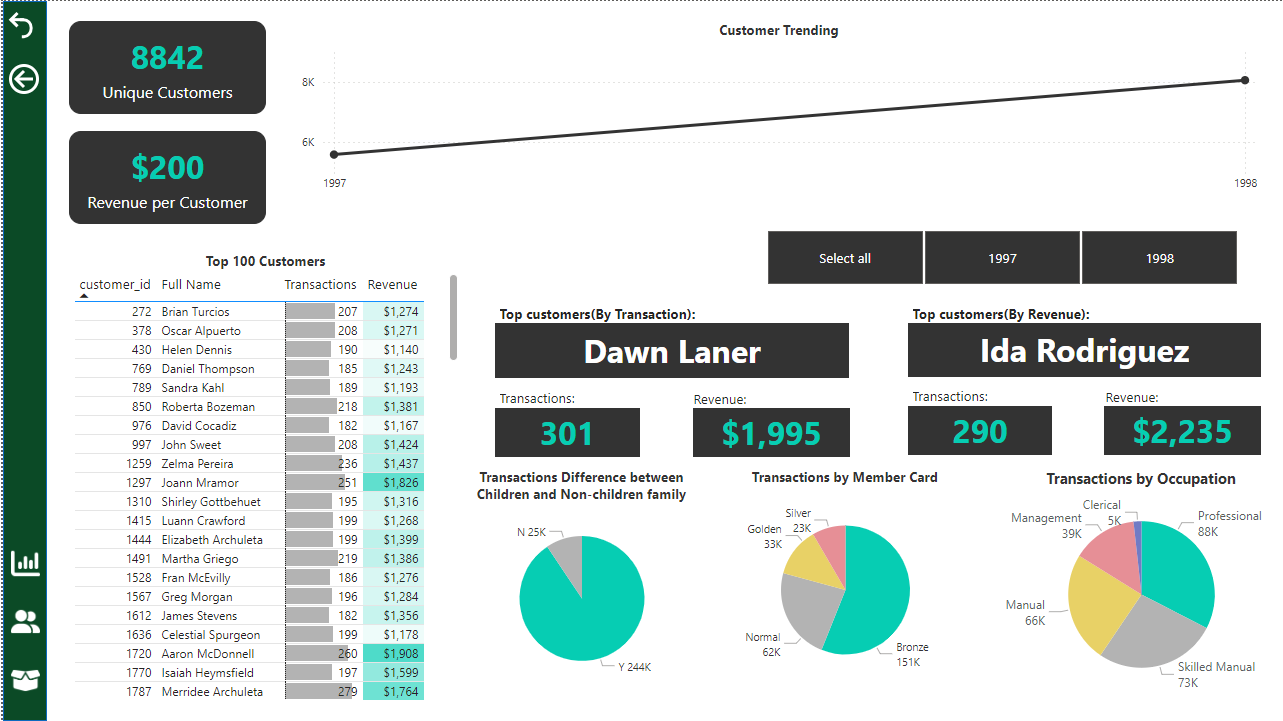

The dashboard page shown, as its layout file describes it:
{"tool":"powerbi","page":{"name":"Customer Performance","canvas":[1280,720],"ordinal":1},"visuals":[{"type":"actionButton","box":[4.1,542.2,36.7,40],"z":0,"group":"g1"},{"type":"tableEx","title":"Top 100 Customers","fields":{"Values":["Customers.customer_id","Customers.full_name","Measure Table.Total Transactions","Measure Table.Total Revenue"]},"box":[65.6,251.1,394.4,453.3],"z":0},{"type":"actionButton","box":[4.1,600.5,36.7,40],"z":1000,"group":"g1"},{"type":"card","fields":{"Values":["Customers.full_name"]},"box":[492.3,322.2,353.6,54.5],"z":1000},{"type":"actionButton","box":[4.1,658.9,36.7,40],"z":2000,"group":"g1"},{"type":"textbox","box":[492.3,298.6,223.6,30.9],"z":2000},{"type":"card","fields":{"Values":["Customers.full_name"]},"box":[905.1,321.7,353.3,54.4],"z":3000},{"type":"textbox","box":[905.1,298.6,223.6,30.9],"z":4000},{"type":"card","fields":{"Values":["Measure Table.Total Transactions"]},"box":[492.3,406.8,144.5,49.1],"z":5000},{"type":"textbox","box":[492.3,383.1,105.5,30],"z":6000},{"type":"card","fields":{"Values":["Measure Table.Total Revenue"]},"box":[688.7,406.8,157.3,49.1],"z":7000},{"type":"textbox","box":[686,384,105.5,30],"z":8000},{"type":"card","fields":{"Values":["Measure Table.Total Transactions"]},"box":[904.6,404.5,144.5,49.1],"z":9000},{"type":"textbox","box":[904.6,380.9,105.5,30],"z":10000},{"type":"card","fields":{"Values":["Measure Table.Total Revenue"]},"box":[1100.9,404.5,157.3,49.1],"z":11000},{"type":"textbox","box":[1098.2,381.8,105.5,30],"z":12000},{"type":"card","fields":{"Values":["Measure Table.Total Customers"]},"box":[65.6,20,197.8,93.3],"z":13000},{"type":"card","fields":{"Values":["Measure Table.Average Revenue per Customer"]},"box":[65.6,130,197.8,93.3],"z":14000},{"type":"lineChart","title":"Customer Trending","fields":{"Y":["Measure Table.Total Customers"],"Category":["Calendar.date.Variation.Date Hierarchy.Year","Calendar.date.Variation.Date Hierarchy.Quarter","Calendar.date.Variation.Date Hierarchy.Month","Calendar.date.Variation.Date Hierarchy.Day"]},"box":[294.4,20,964.4,180],"z":15000},{"type":"pieChart","title":"Transactions Difference between Children and Non-children family","fields":{"Category":["Customers.has_children"],"Y":["Measure Table.Total Transactions"]},"box":[468.9,466.7,220,227.8],"z":16000},{"type":"pieChart","title":"Transactions by Member Card","fields":{"Y":["Measure Table.Total Transactions"],"Category":["Customers.member_card"]},"box":[736.1,466.7,213.3,227.8],"z":17000},{"type":"pieChart","title":"Transactions by Occupation","fields":{"Category":["Customers.occupation"],"Y":["Measure Table.Total Transactions"]},"box":[996.7,466.7,283.3,233.3],"z":18000},{"type":"slicer","fields":{"Values":["Calendar.Year"]},"box":[738.9,223.3,520,66.7],"z":19000},{"type":"shape","box":[0,0,44.4,720],"z":20000},{"type":"actionButton","box":[0,5.6,41.1,36.7],"z":22000},{"type":"actionButton","box":[0.6,57.8,40,40],"z":23000},{"type":"group","id":"g1","title":"Navigation Button","box":[4.1,542.2,36.7,156.7],"z":23001}]}

Visuals, with their boxes on the page's 1280x720 design canvas (x1, y1, x2, y2). These are canvas units, not pixel positions in the 1283x721 screenshot, which may show the page scaled, cropped or inside an application window:
actionButton: detection(4, 542, 41, 582)
"Top 100 Customers" tableEx: detection(66, 251, 460, 704)
actionButton: detection(4, 600, 41, 640)
card - Customers.full_name: detection(492, 322, 846, 377)
actionButton: detection(4, 659, 41, 699)
textbox: detection(492, 299, 716, 330)
card - Customers.full_name: detection(905, 322, 1258, 376)
textbox: detection(905, 299, 1129, 330)
card - Measure Table.Total Transactions: detection(492, 407, 637, 456)
textbox: detection(492, 383, 598, 413)
card - Measure Table.Total Revenue: detection(689, 407, 846, 456)
textbox: detection(686, 384, 792, 414)
card - Measure Table.Total Transactions: detection(905, 404, 1049, 454)
textbox: detection(905, 381, 1010, 411)
card - Measure Table.Total Revenue: detection(1101, 404, 1258, 454)
textbox: detection(1098, 382, 1204, 412)
card - Measure Table.Total Customers: detection(66, 20, 263, 113)
card - Measure Table.Average Revenue per Customer: detection(66, 130, 263, 223)
"Customer Trending" lineChart: detection(294, 20, 1259, 200)
"Transactions Difference between Children and Non-children family" pieChart: detection(469, 467, 689, 694)
"Transactions by Member Card" pieChart: detection(736, 467, 949, 694)
"Transactions by Occupation" pieChart: detection(997, 467, 1280, 700)
slicer - Calendar.Year: detection(739, 223, 1259, 290)
shape: detection(0, 0, 44, 720)
actionButton: detection(0, 6, 41, 42)
actionButton: detection(1, 58, 41, 98)
"Navigation Button" group: detection(4, 542, 41, 699)
